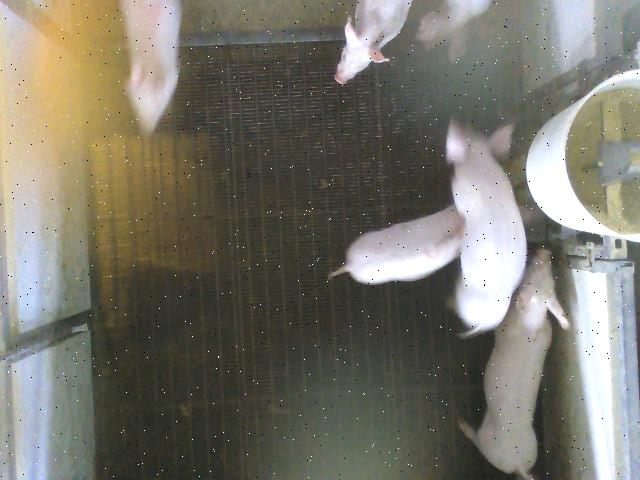pig-3: (331, 206, 464, 284)
